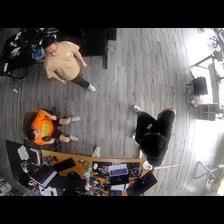normal: (42, 36, 95, 92), (128, 103, 175, 166), (27, 108, 80, 146)
